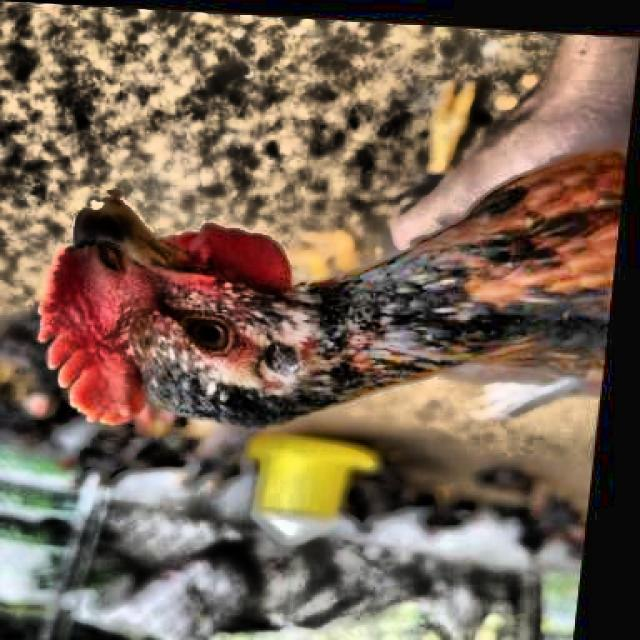Healthy: (175, 312, 253, 368)
